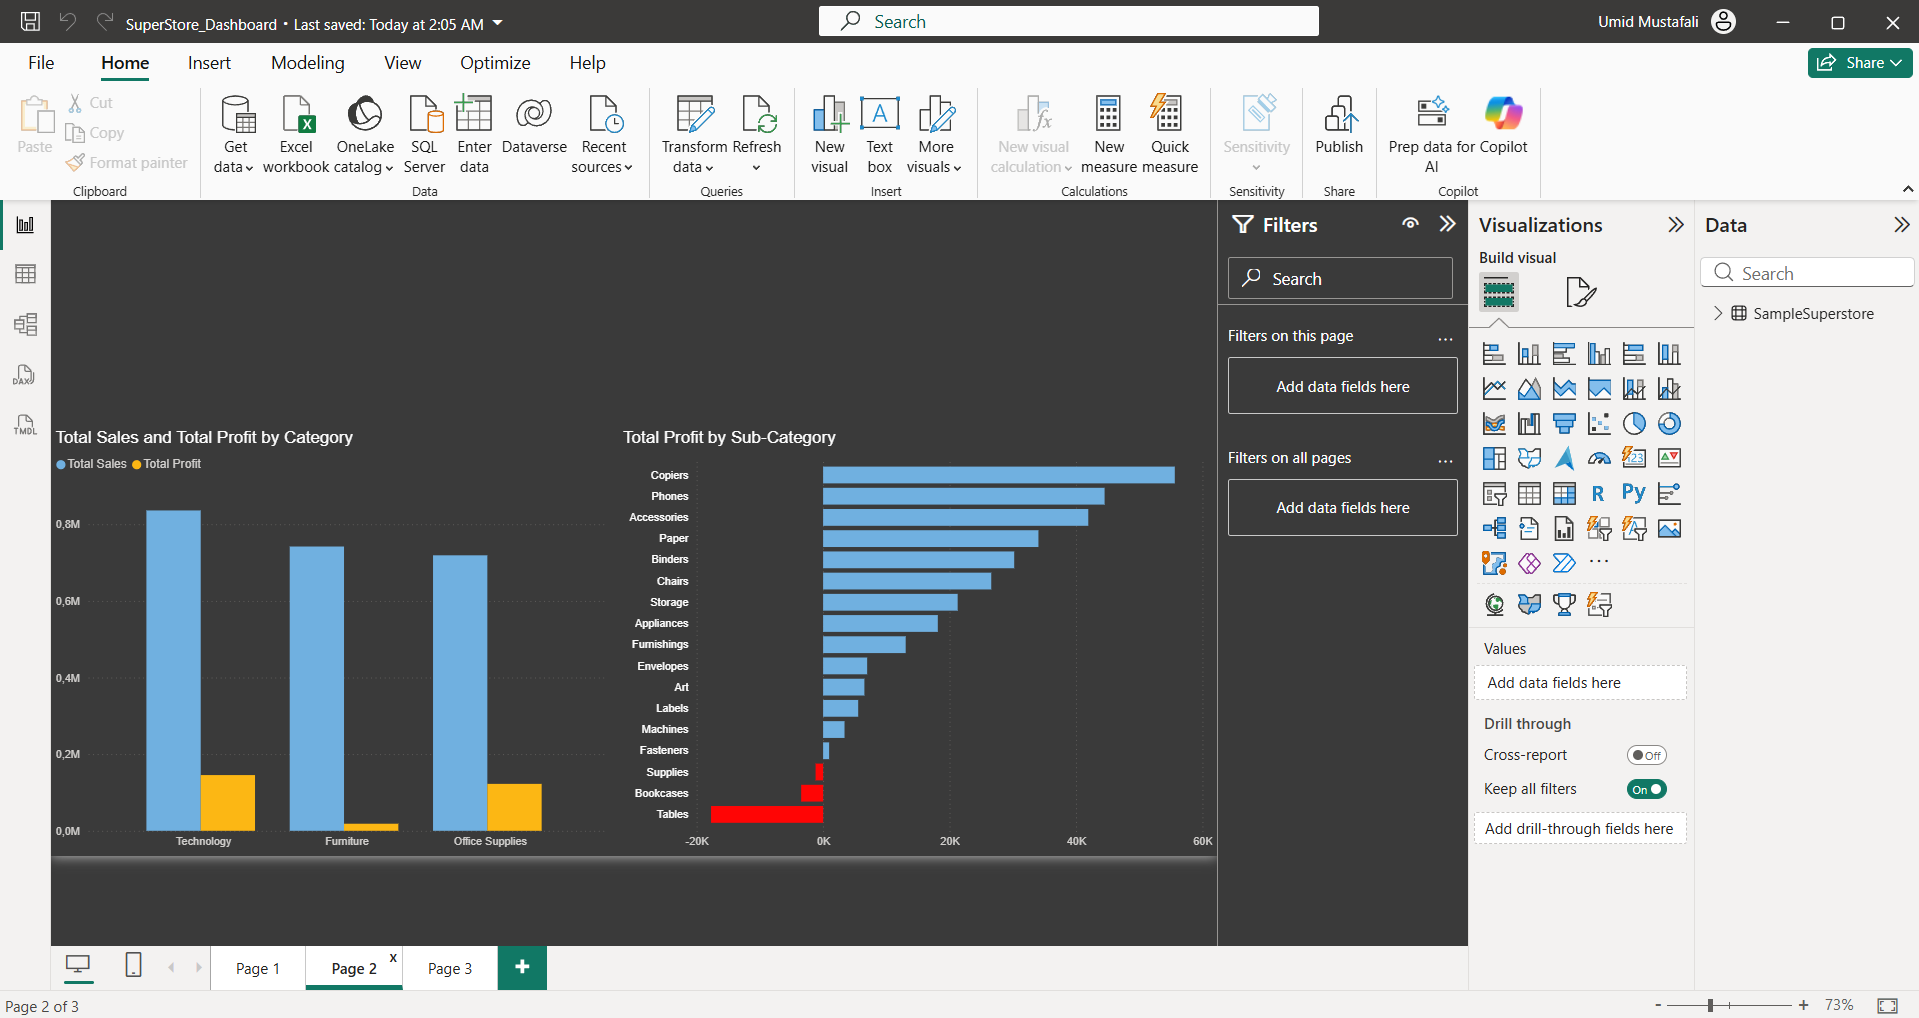

This screenshot's page, from the dashboard's own definition file:
{"tool":"powerbi","page":{"name":"Page 2","canvas":[1280,720],"ordinal":1},"visuals":[{"type":"clusteredColumnChart","fields":{"Category":["SampleSuperstore.Category"],"Y":["SampleSuperstore.Total Sales","SampleSuperstore.Total Profit"]},"box":[0,249.7,613.4,470.7],"z":0},{"type":"barChart","fields":{"Category":["SampleSuperstore.Sub-Category"],"Y":["SampleSuperstore.Total Profit"]},"box":[623,249.7,657.3,470.7],"z":1}]}

Visuals, with their boxes on the page's 1280x720 design canvas (x1, y1, x2, y2). These are canvas units, not pixel positions in the 1919x1018 screenshot, which may show the page scaled, cropped or inside an application window:
clusteredColumnChart - SampleSuperstore.Category x SampleSuperstore.Total Sales: bbox(0, 250, 613, 720)
barChart - SampleSuperstore.Sub-Category x SampleSuperstore.Total Profit: bbox(623, 250, 1280, 720)
